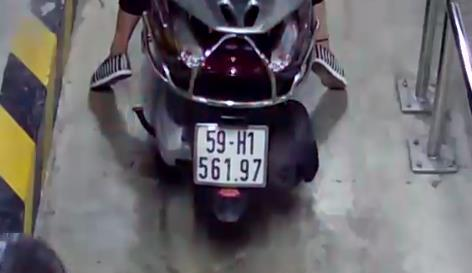lisence: (193, 124, 267, 188)
